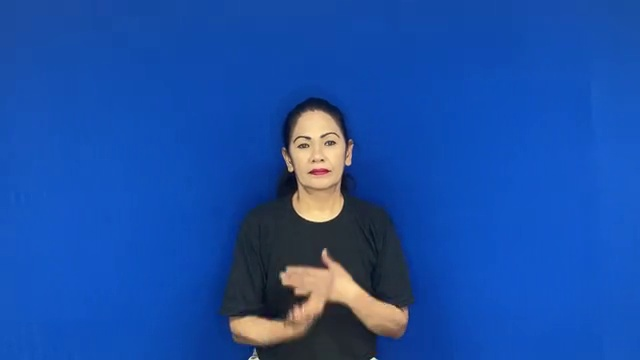bread: (274, 243, 355, 332)
